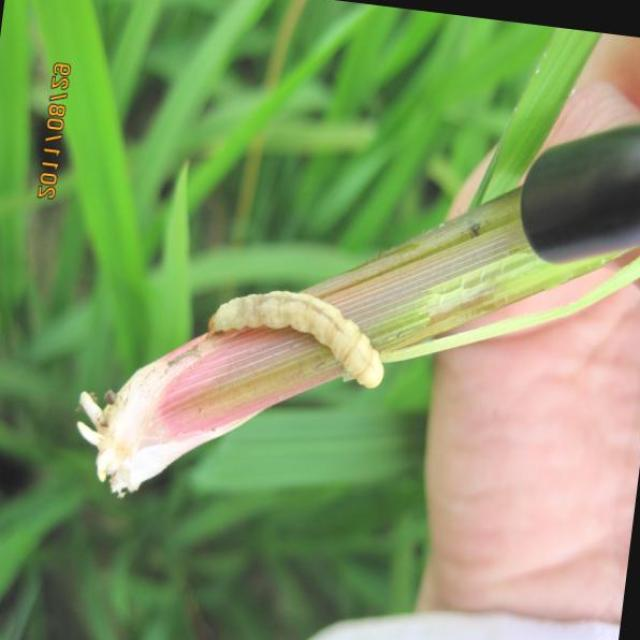stem borer: (209, 291, 384, 388)
